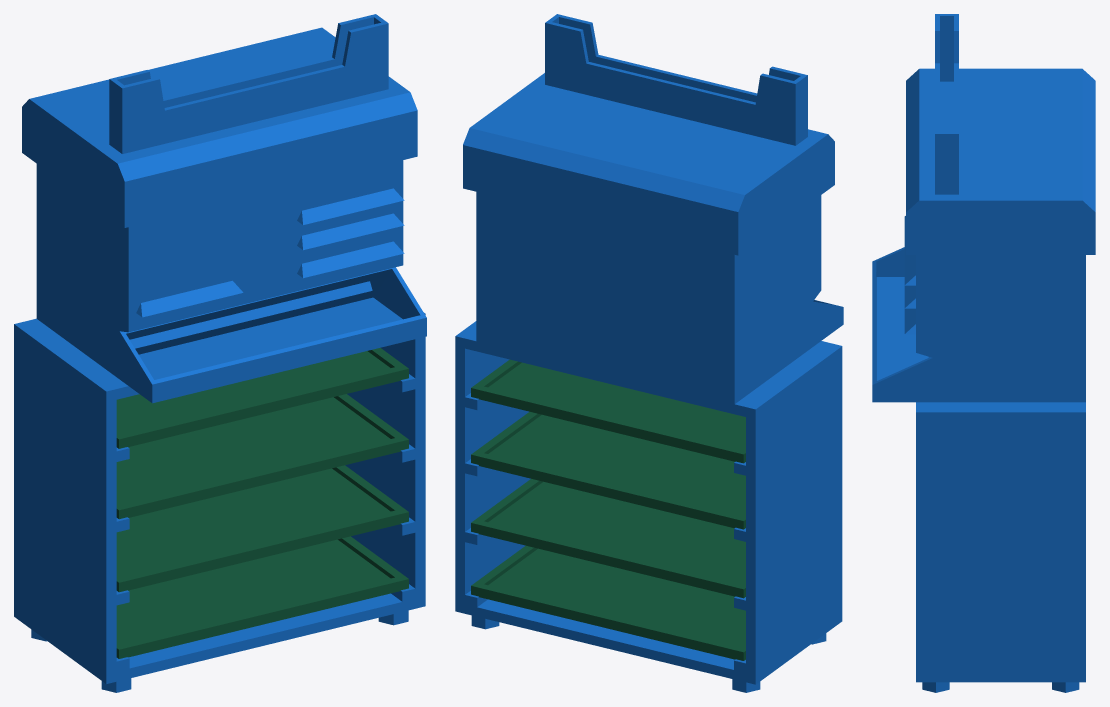
The model's file is T_bun_warmer.fbx.
3 renders of one model, left to right at view 1: azimuth 30°, elevation 25°; view 2: azimuth 150°, elevation 25°; view 3: azimuth 270°, elevation 25°, orthographic. The views are drawn at different scales.
Parts seen in each view (by area): view 1: bun_warmer; view 2: bun_warmer; view 3: bun_warmer.
Part boxes in pixels (box(x1,y1,x2,y2)): bun_warmer: box(14, 14, 426, 692); bun_warmer: box(455, 14, 843, 692); bun_warmer: box(872, 14, 1095, 692).
Bounding box in the file's own units: 100 × 178 × 65.67.
